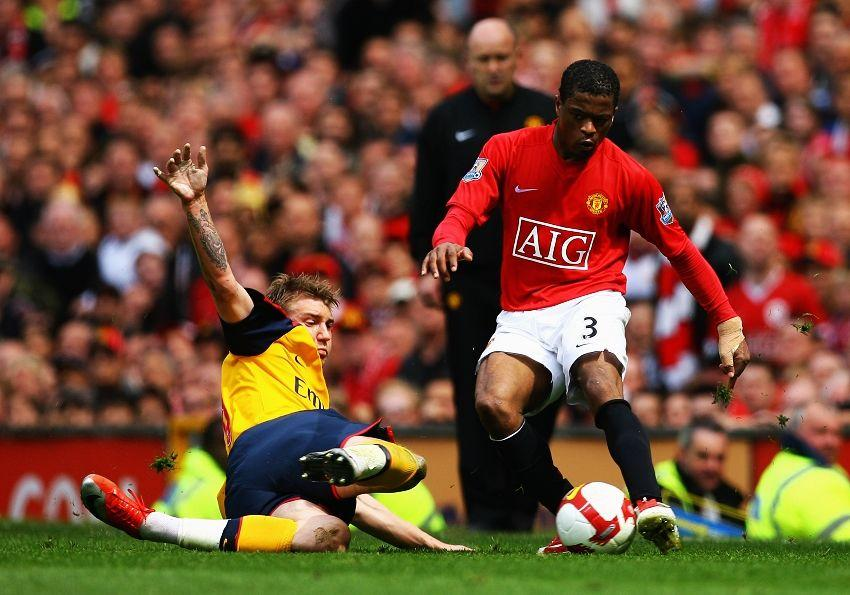bending: (415, 59, 746, 556)
down: (70, 123, 474, 562)
up: (400, 11, 558, 539)
